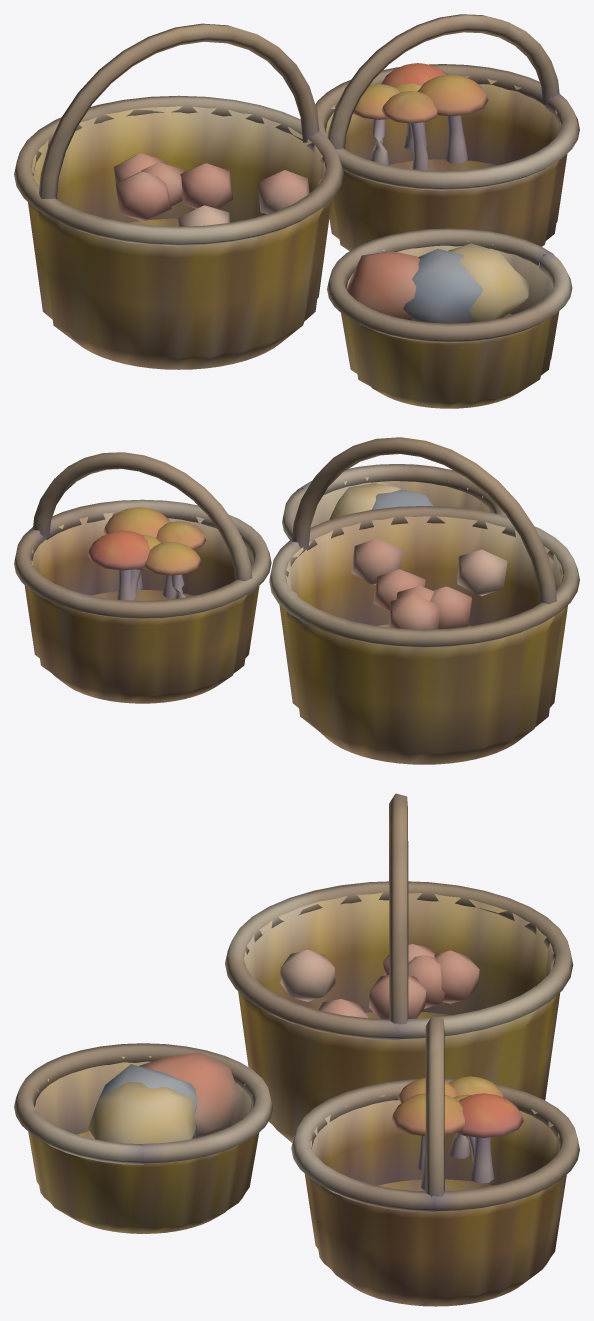
File: sepet_seti.glb
3 views of the same model, one above another, from view 1: azimuth 30°, elevation 25°; view 2: azimuth 150°, elevation 25°; view 3: azimuth 270°, elevation 25° (orthographic). The views are drawn at different scales.
Parts seen in each view (by area): view 1: sepet_seti_LOD0; view 2: sepet_seti_LOD0; view 3: sepet_seti_LOD0.
Boxes of the visible parts, box(x1,y1,x2,y2) form: sepet_seti_LOD0: box(14, 14, 579, 408); sepet_seti_LOD0: box(14, 437, 579, 764); sepet_seti_LOD0: box(14, 793, 579, 1306).
Size of what is drawn, in the model's own units: 0.9068 by 0.4689 by 0.7751.
